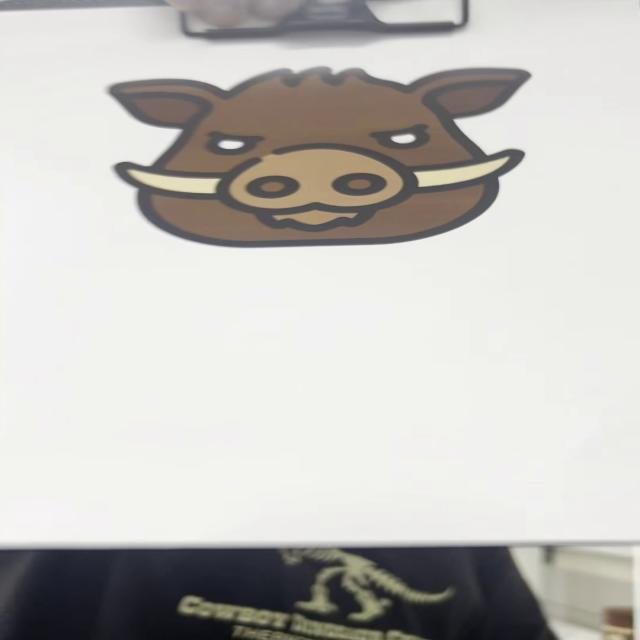animal: (105, 66, 539, 251)
